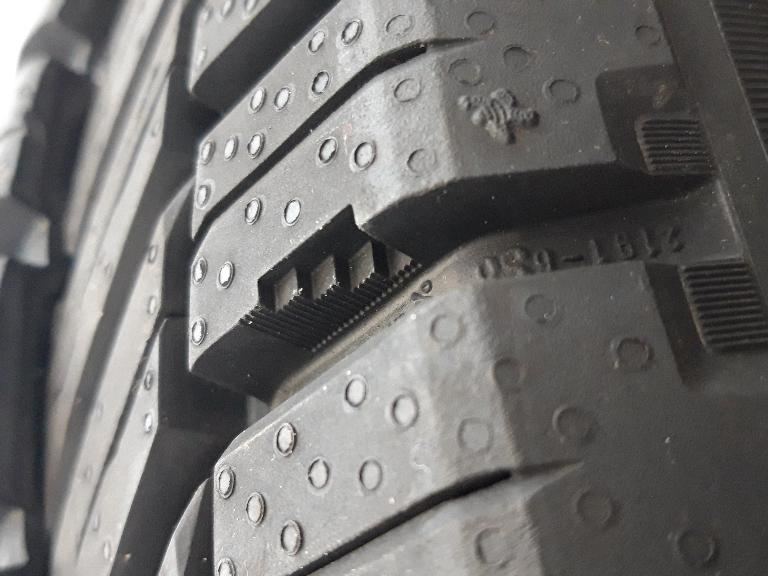temoin:100: (231, 199, 429, 360)
